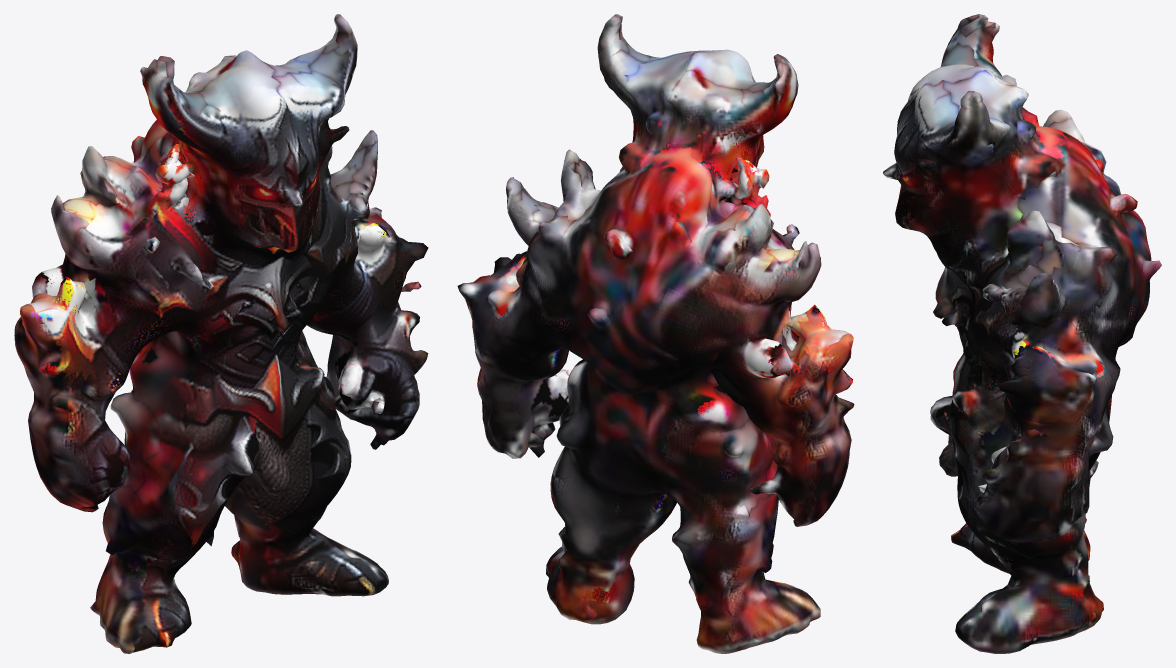
File: demon.glb
The picture shows the model from 3 angles, left to right: view 1: azimuth 30°, elevation 25°; view 2: azimuth 150°, elevation 25°; view 3: azimuth 270°, elevation 25°; orthographic projection. The views are drawn at different scales.
Visible parts, largest first — view 1: model.obj_1; view 2: model.obj_1; view 3: model.obj_1.
Part boxes in pixels (box(x1,y1,x2,y2)): model.obj_1: box(14, 14, 428, 653); model.obj_1: box(457, 14, 854, 653); model.obj_1: box(883, 14, 1161, 653).
Bounding box in the file's own units: 0.7365 × 1.07 × 0.4888.
Materials: 1 (1 with a texture image).
